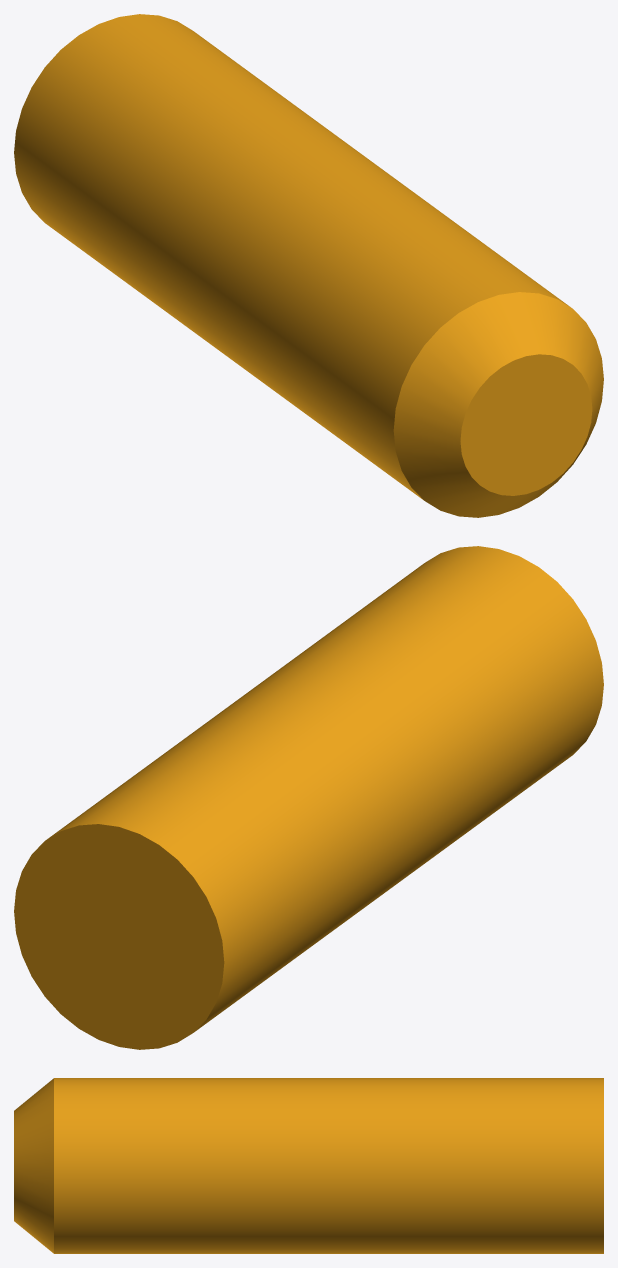
The model's file is bullet_case.glb.
The picture shows the model from 3 angles, top to bottom: view 1: azimuth 30°, elevation 25°; view 2: azimuth 150°, elevation 25°; view 3: azimuth 270°, elevation 25°; orthographic projection. The views are drawn at different scales.
Parts seen in each view (by area): view 1: Cylinder; view 2: Cylinder; view 3: Cylinder.
Boxes of the visible parts, x1=… form: Cylinder: x1=14, y1=14, x2=603, y2=517; Cylinder: x1=14, y1=546, x2=603, y2=1049; Cylinder: x1=14, y1=1078, x2=603, y2=1253.
Bounding box in the file's own units: 0.041 × 0.041 × 0.1374.
